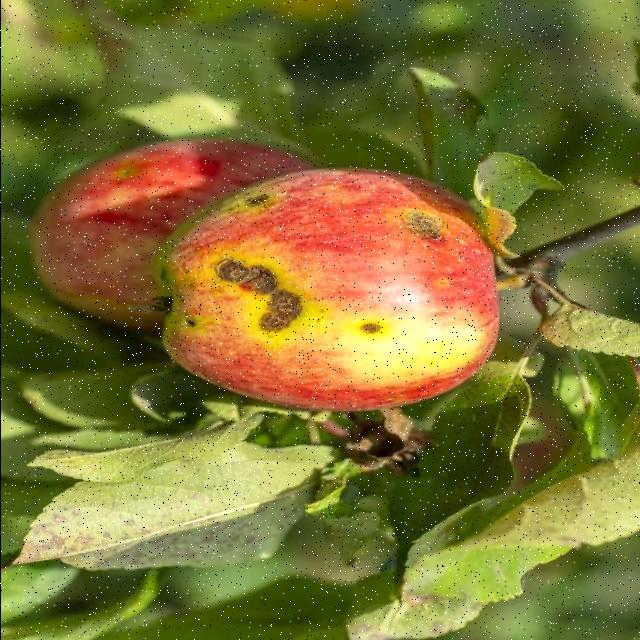SCAB: (89, 160, 526, 424)
